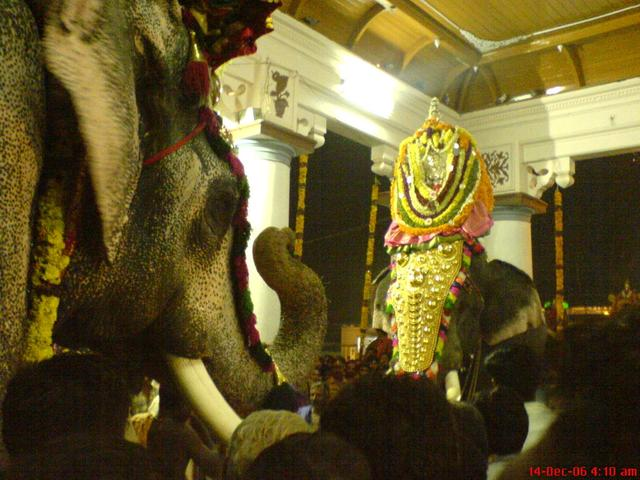elephant: (11, 8, 396, 424)
